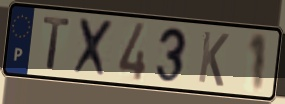1: (245, 32, 267, 95)
3: (153, 25, 194, 87)
4: (117, 19, 149, 83)
K: (196, 29, 231, 90)
T: (41, 14, 72, 73)
X: (71, 16, 117, 81)
